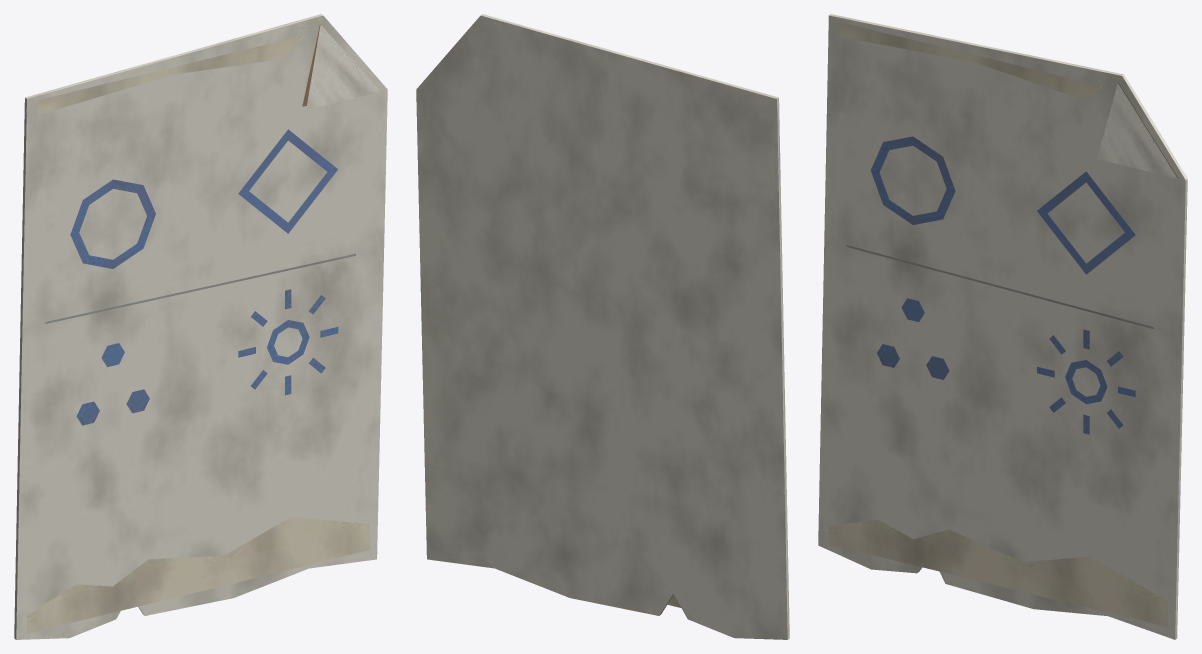
Rendered from P29_door_code_note.glb.
3 views of the same model, side by side, from view 1: azimuth 30°, elevation 25°; view 2: azimuth 150°, elevation 25°; view 3: azimuth 330°, elevation 25° (orthographic).
Visible parts, largest first — view 1: Door_code_note; view 2: Door_code_note; view 3: Door_code_note.
Boxes of the visible parts, x1,y1,x2,y2 form: Door_code_note: (14,14,387,639); Door_code_note: (416,14,789,639); Door_code_note: (818,14,1187,639).
Bounding box in the file's own units: 0.104 × 0.15 × 0.003.
Materials: 5 (5 with a texture image).
